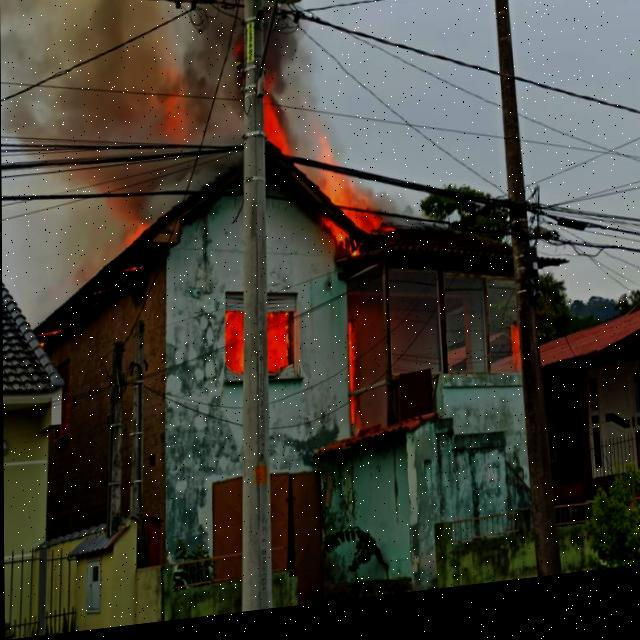Fire: (307, 142, 403, 273), (264, 94, 292, 164), (263, 316, 294, 378), (346, 327, 359, 438), (224, 312, 243, 380), (125, 222, 154, 248)
